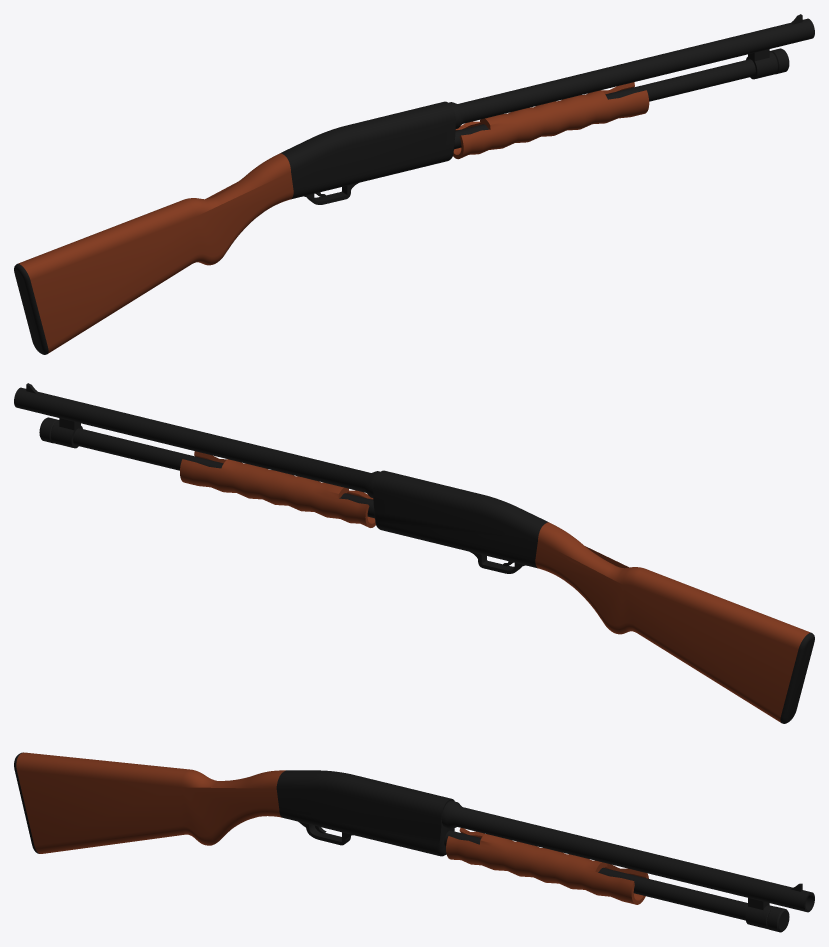
File: shotgun2.0.fbx
The picture shows the model from 3 angles, top to bottom: view 1: azimuth 30°, elevation 25°; view 2: azimuth 150°, elevation 25°; view 3: azimuth 330°, elevation 25°; orthographic projection.
Parts seen in each view (by area): view 1: Base Handle, Up Barrel, Cockback, Down Barrel, Scope; view 2: Base Handle, Up Barrel, Cockback, Down Barrel, Scope; view 3: Base Handle, Up Barrel, Cockback, Down Barrel, Scope, Switch.
Boxes of the visible parts, box(x1,y1,x2,y2) form: Base Handle: box(14, 101, 455, 354); Up Barrel: box(448, 14, 814, 128); Cockback: box(453, 82, 649, 159); Down Barrel: box(454, 59, 755, 149); Scope: box(746, 48, 789, 79); Base Handle: box(373, 470, 814, 723); Up Barrel: box(14, 383, 380, 497); Cockback: box(180, 451, 375, 527); Down Barrel: box(73, 428, 374, 518); Scope: box(39, 417, 82, 448); Base Handle: box(14, 752, 454, 856); Up Barrel: box(441, 800, 814, 912); Cockback: box(446, 828, 648, 904); Down Barrel: box(444, 830, 747, 920); Scope: box(745, 898, 789, 932); Switch: box(298, 821, 353, 845).
Bounding box in the file's own units: 335 × 61.96 × 12.82.
